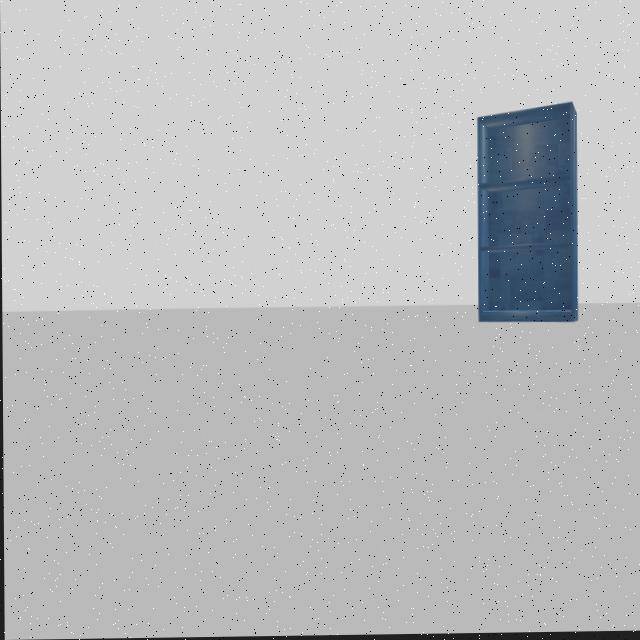shelf: (464, 95, 591, 344)
